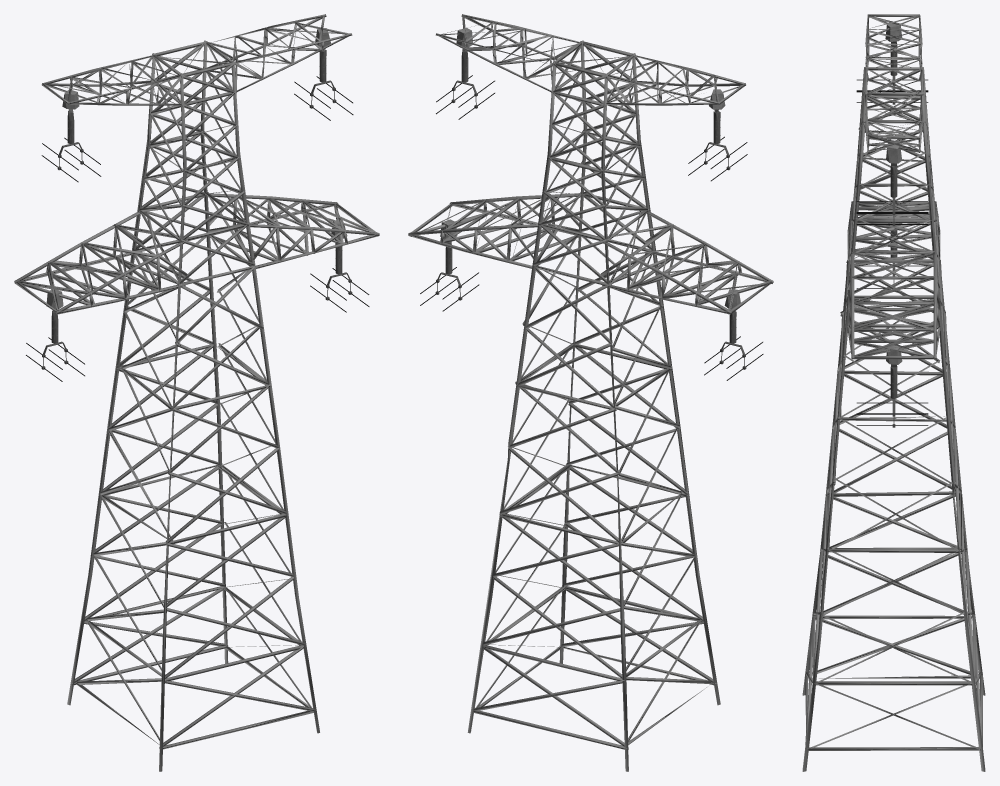
The model's file is pylon.zfix-v1.lod1.glb.
The picture shows the model from 3 angles, left to right: view 1: azimuth 30°, elevation 25°; view 2: azimuth 150°, elevation 25°; view 3: azimuth 270°, elevation 25°; orthographic projection.
Parts seen in each view (by area): view 1: Pylon_5, Pylon_0, Pylon_1; view 2: Pylon_5, Pylon_0, Pylon_1; view 3: Pylon_5, Pylon_0, Pylon_1.
Part boxes in pixels (x1,y1,x2,y2): Pylon_5: [14, 14, 379, 771]; Pylon_0: [26, 76, 369, 381]; Pylon_1: [51, 50, 342, 343]; Pylon_5: [408, 14, 773, 771]; Pylon_0: [420, 75, 763, 380]; Pylon_1: [445, 49, 736, 343]; Pylon_5: [802, 14, 985, 771]; Pylon_0: [856, 76, 928, 427]; Pylon_1: [890, 44, 897, 398].
Bounding box in the file's own units: 14.32 × 28 × 7.1.
Materials: 3 (2 with a texture image).
